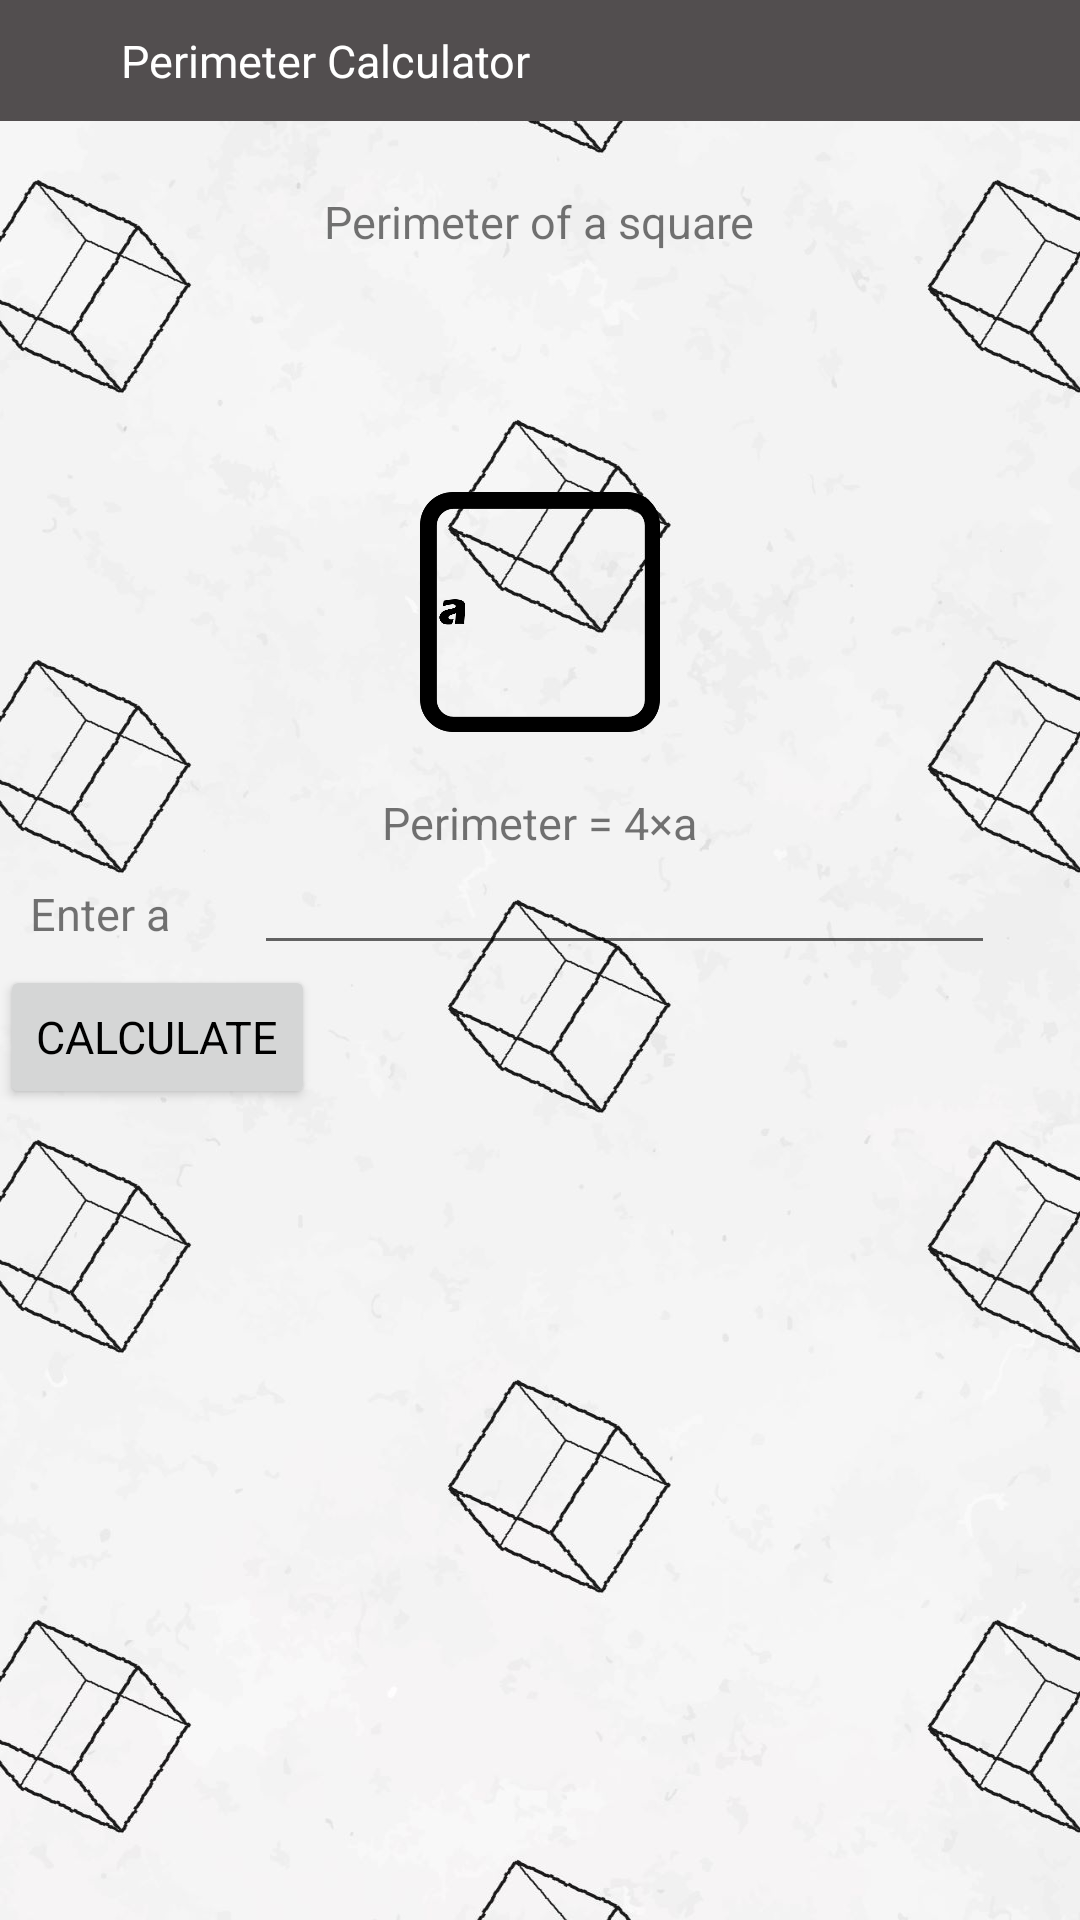

Where icons sit on this 1080*1920 app screen, as (x1, y1, x2, y2):
squareb: (420, 492, 660, 732)
